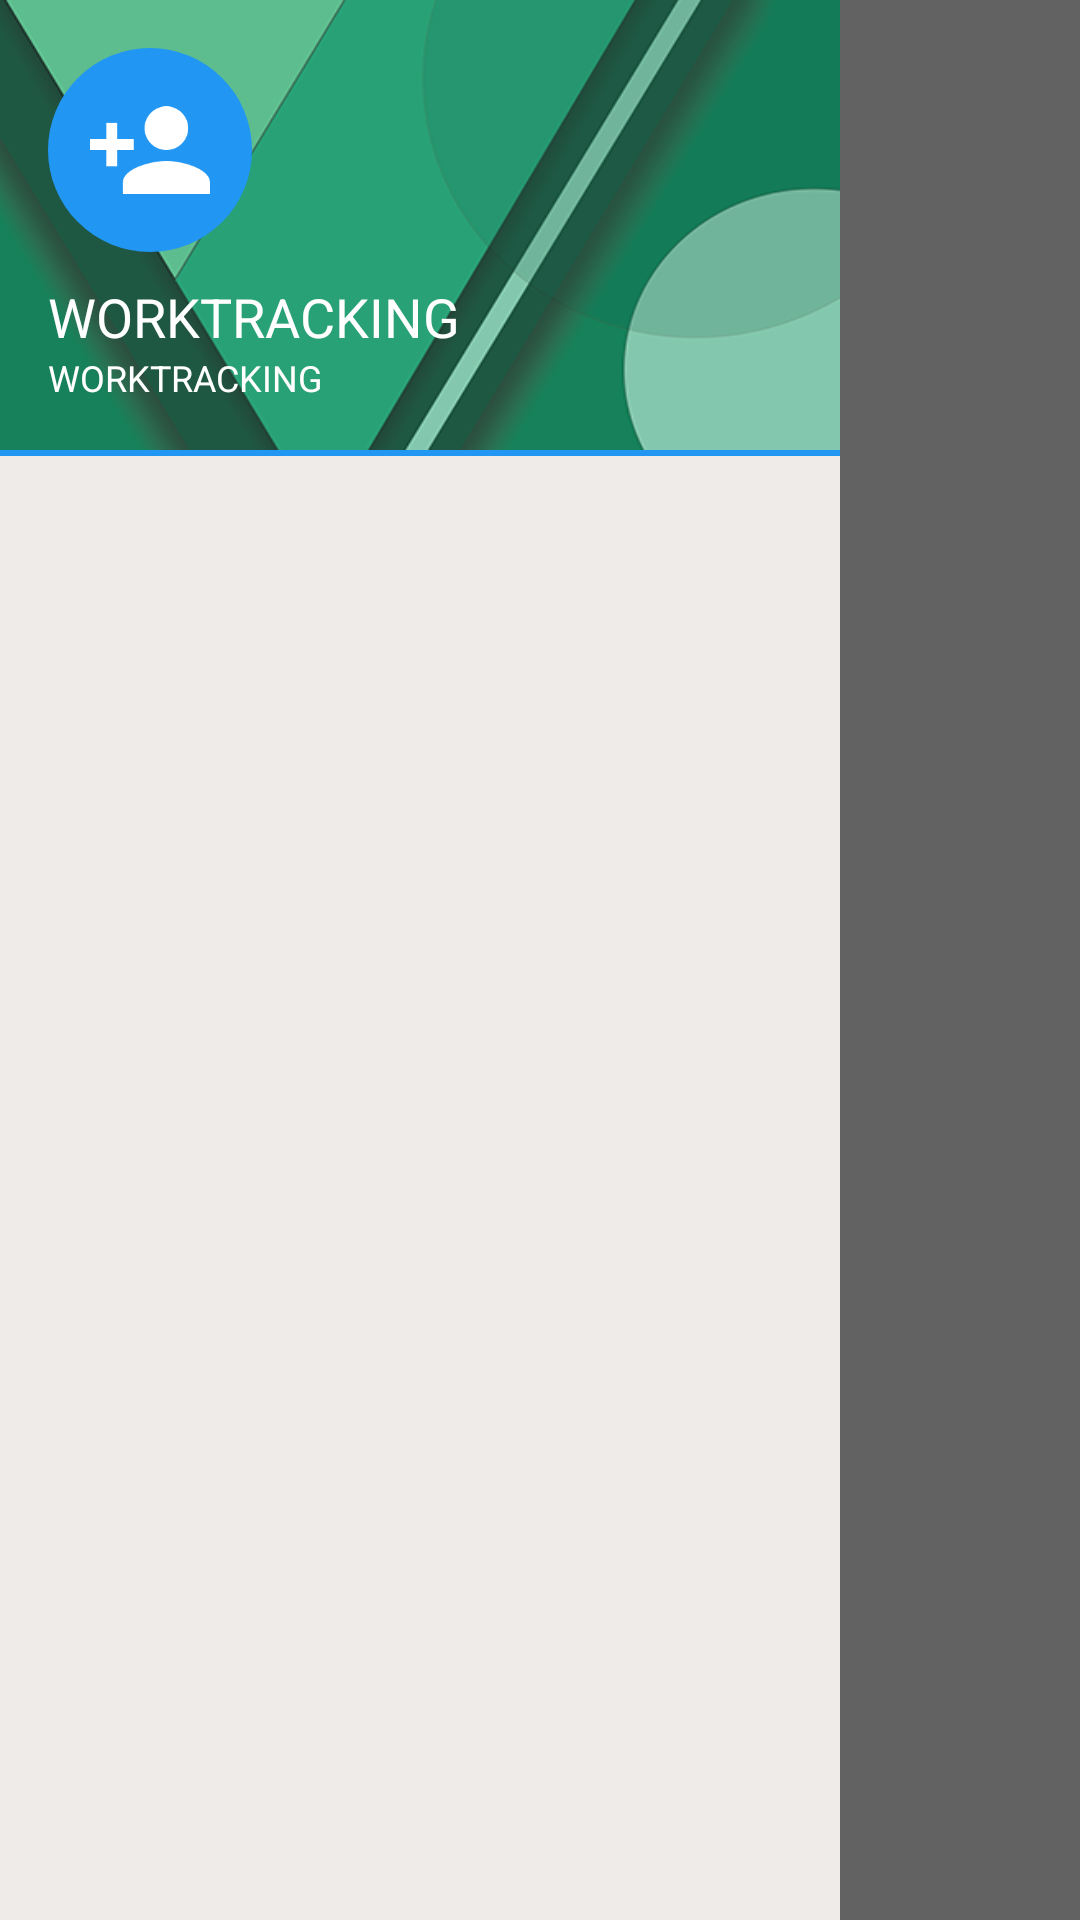

Screen size 1080px x 1920px. Icon name, then its center in pixels as (x,y):
circle pic profile: (150,150)
